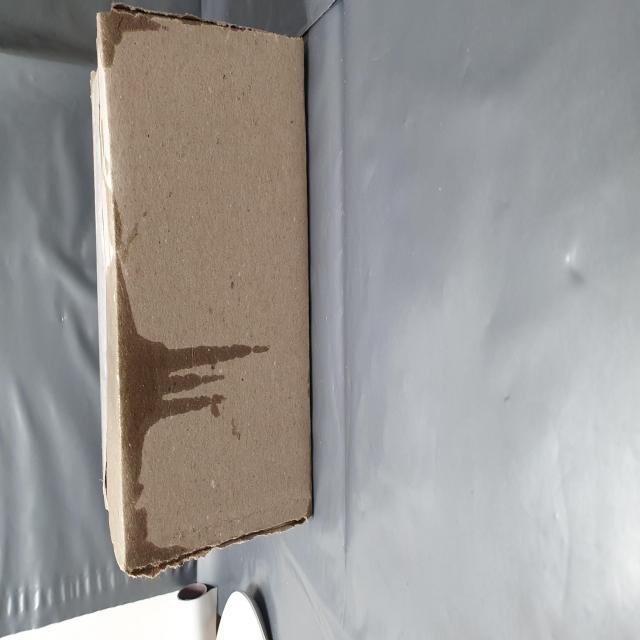wet: (53, 174, 218, 389)
